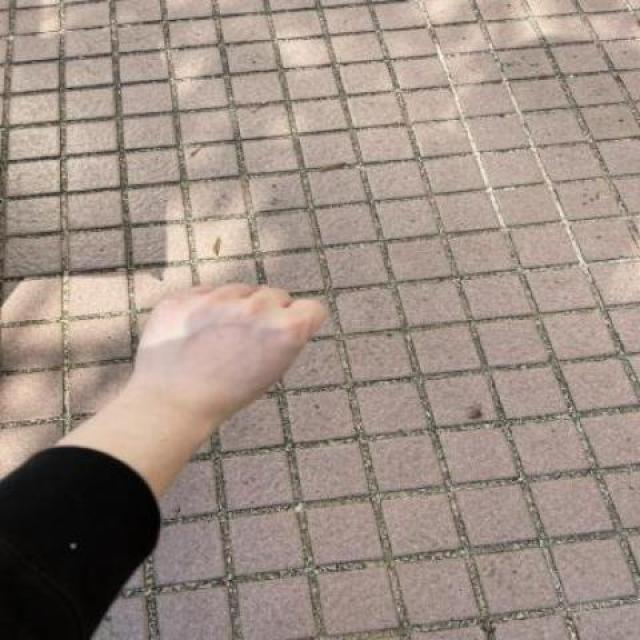fist: (123, 276, 330, 420)
